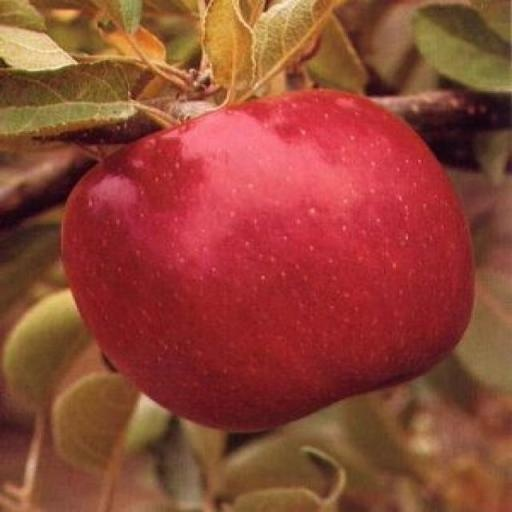fruit: (64, 92, 472, 430)
